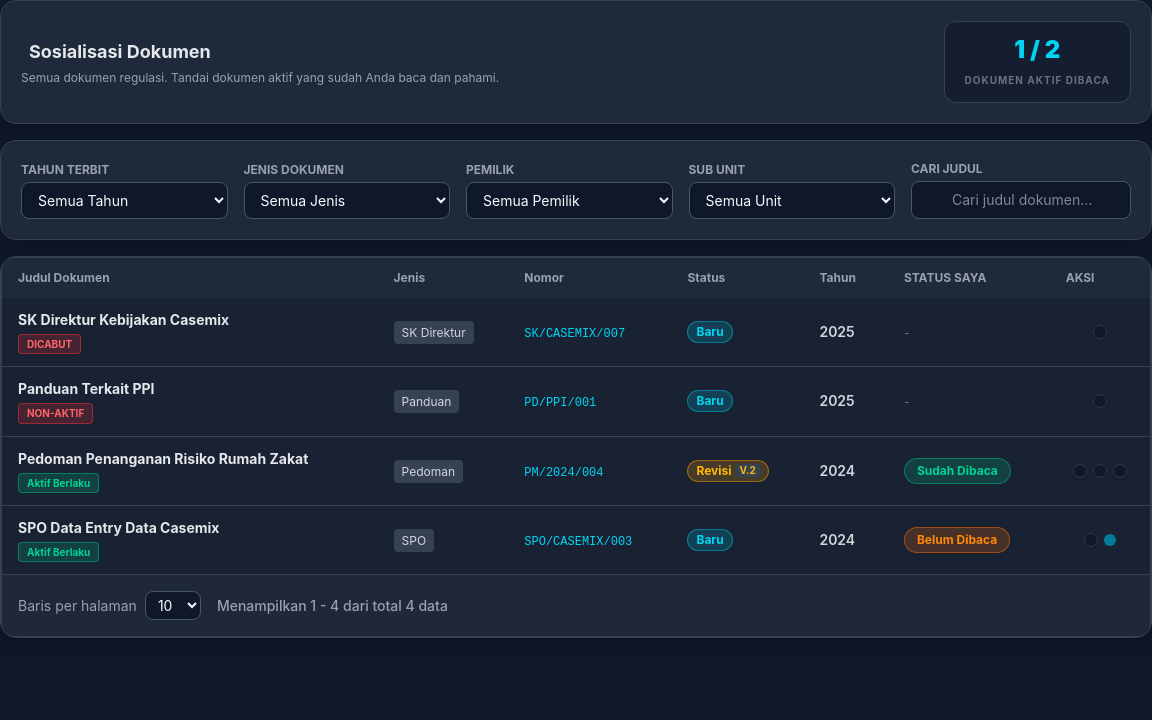
Scenario: SosialisasiPage with the mock Adapter › renders normalized documents and confirms a read through the Adapter
This screenshot has width=1152, height=720.
Expected: the text "Pedoman Penanganan Risiko Rumah Zakat" is shown, [18,450,308,467]
Expected: the text "V.2" is shown, [736,464,760,477]
Click the button titled "Tandai Sudah Dibaca" at (1110, 540), box [1104,534,1116,546]
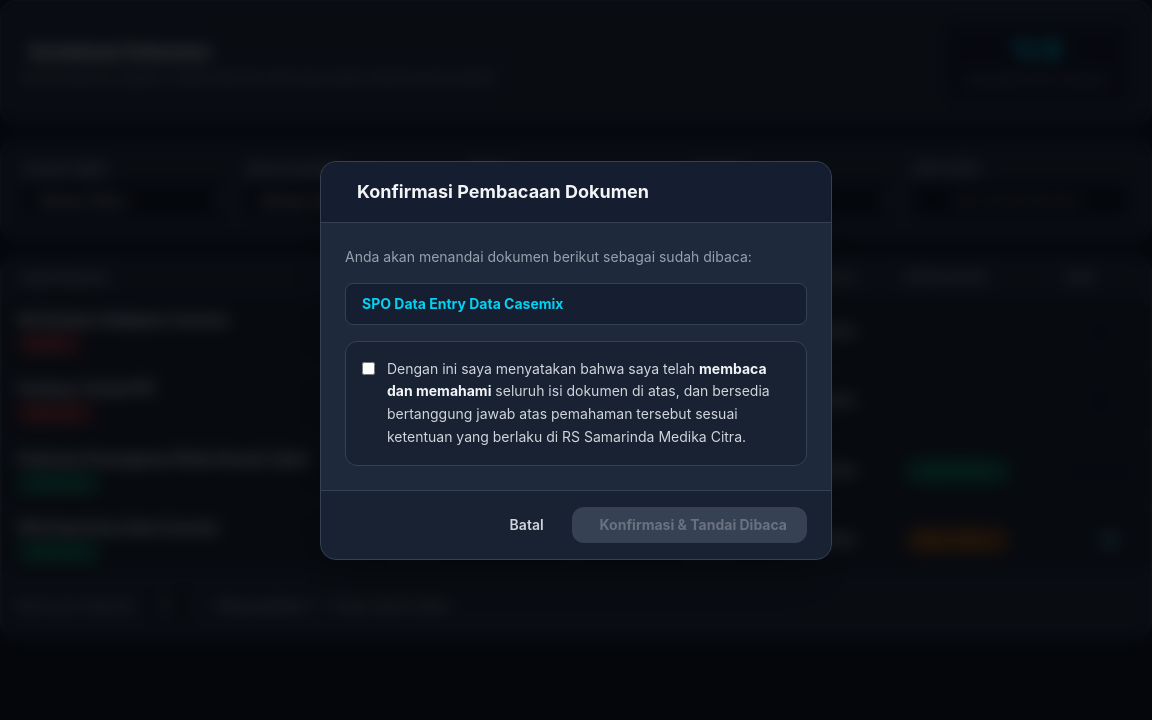
Result: the button "Konfirmasi & Tandai Dibaca" is disabled at [572,506,807,542]
Click the checkbox at (368, 368), box [362,360,375,377]
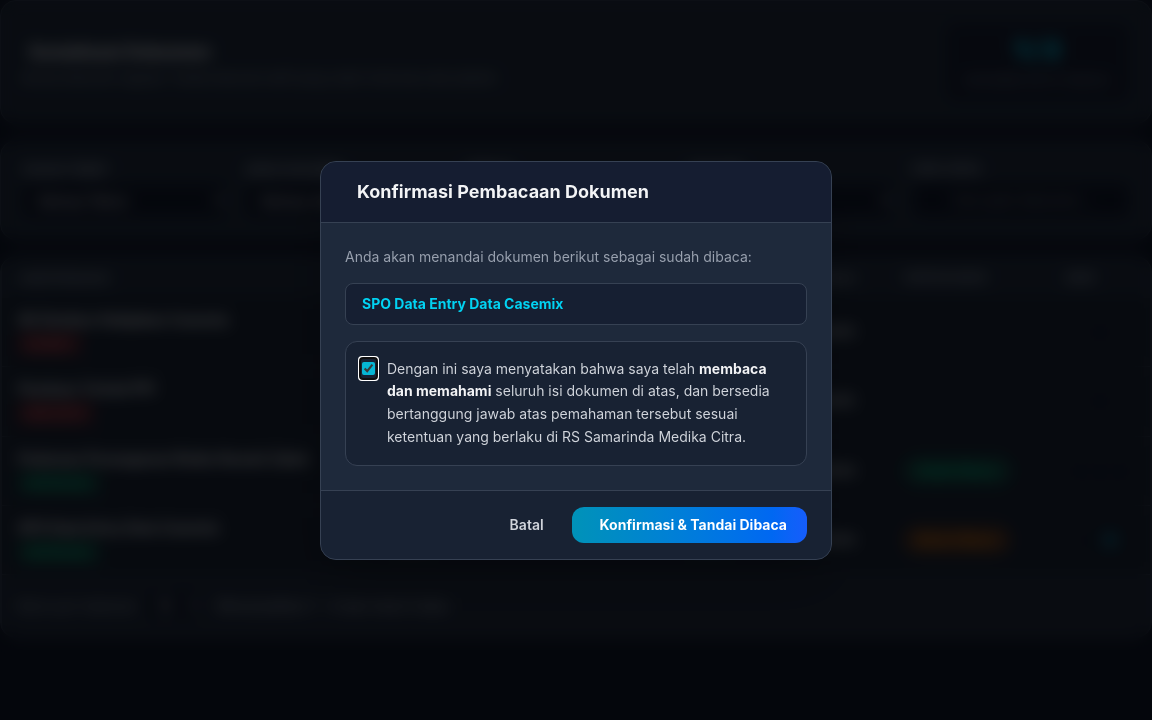
Click the button "Konfirmasi & Tandai Dibaca" at (689, 524), box [572,506,807,542]
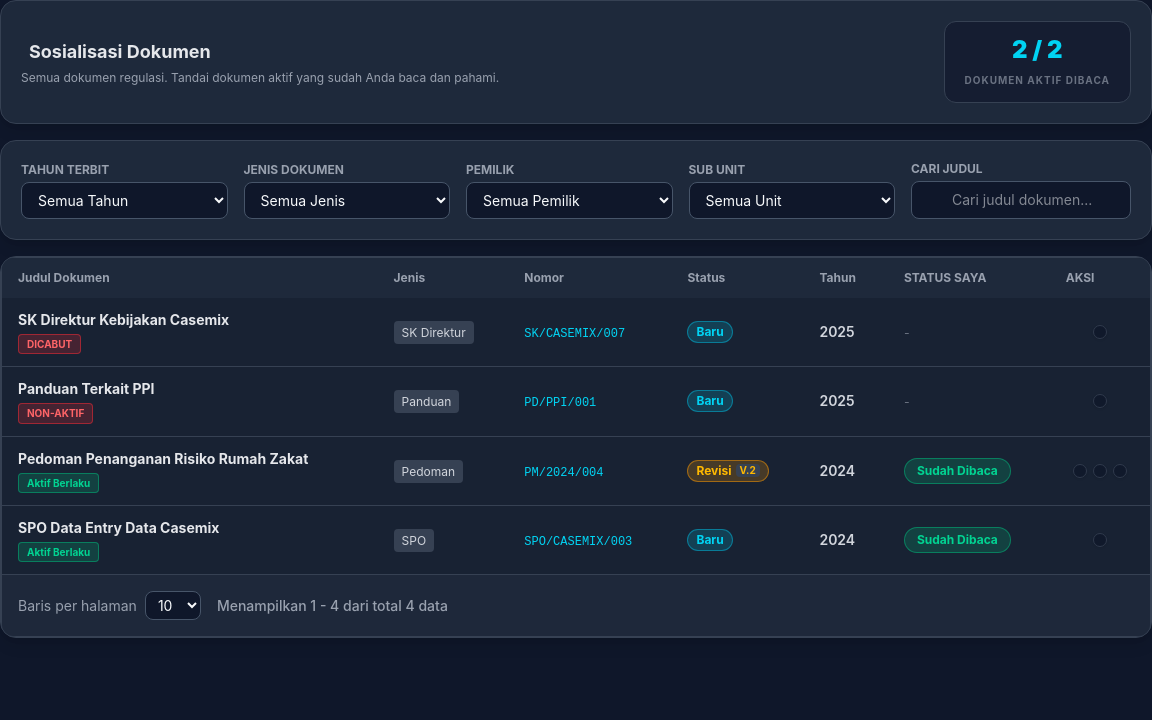
Result: the text "Sudah Dibaca" in the row of "SPO Data Entry Data Casemix" is shown at [917,532,998,547]
